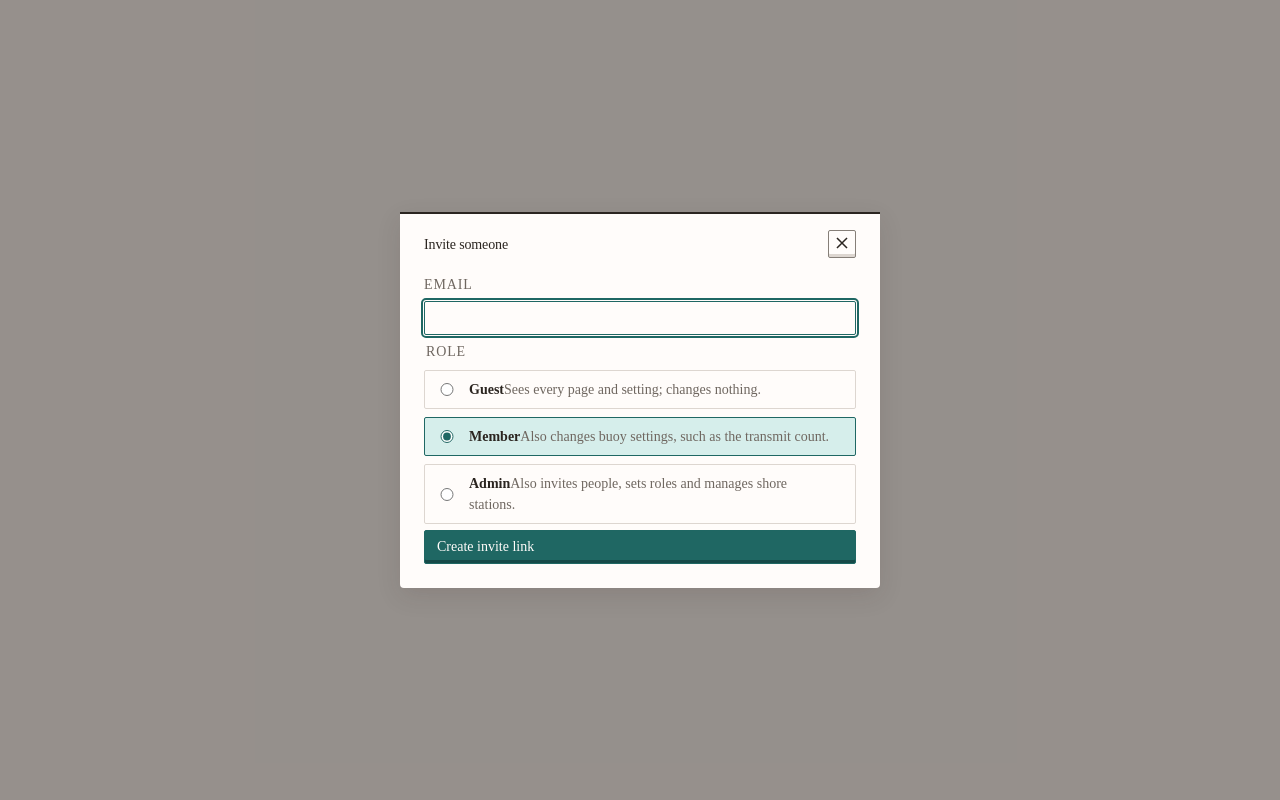
Test: InviteDialog › creates the invite with the chosen role and shows the link once
The image size is (1280, 800).
Type "new@scout.test" into the field labelled "Email" at (640, 318), box [424, 301, 856, 335]
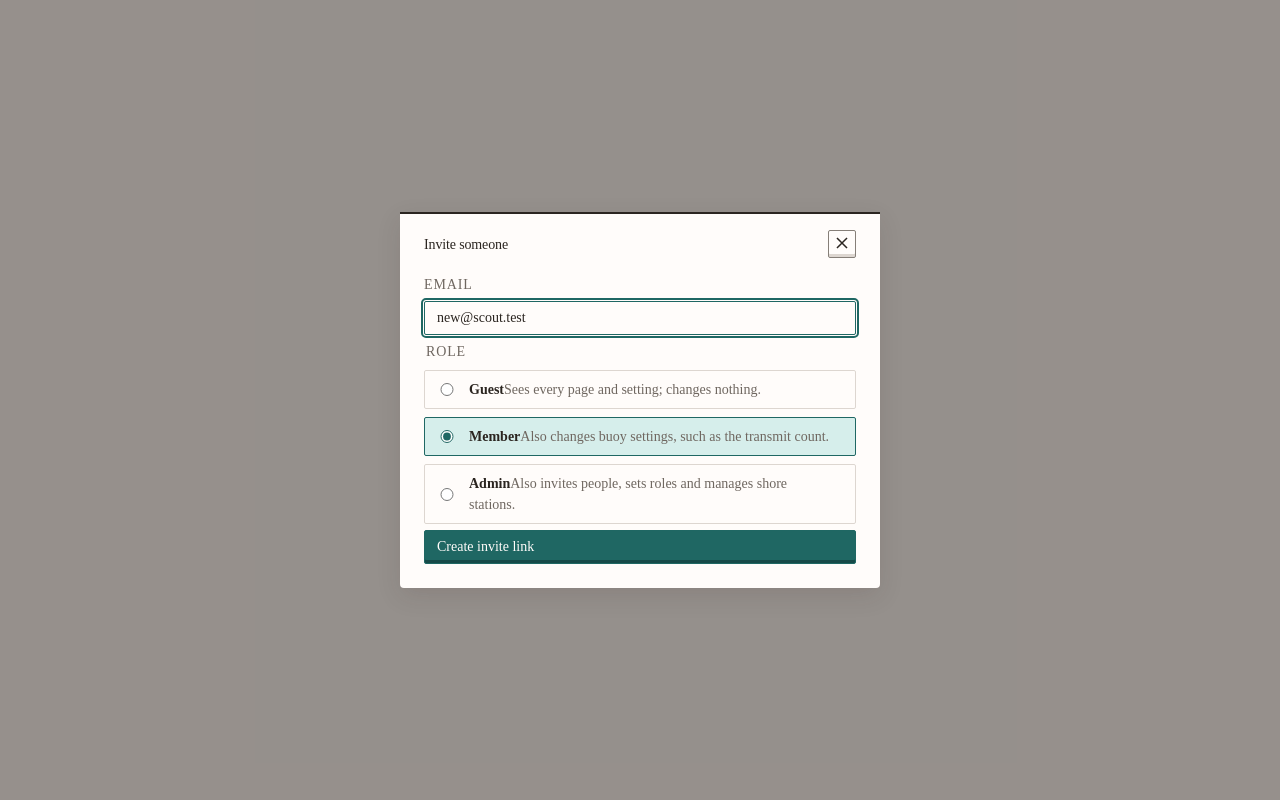
Click the radio button labelled "Guest" at (447, 390), box [437, 383, 457, 396]
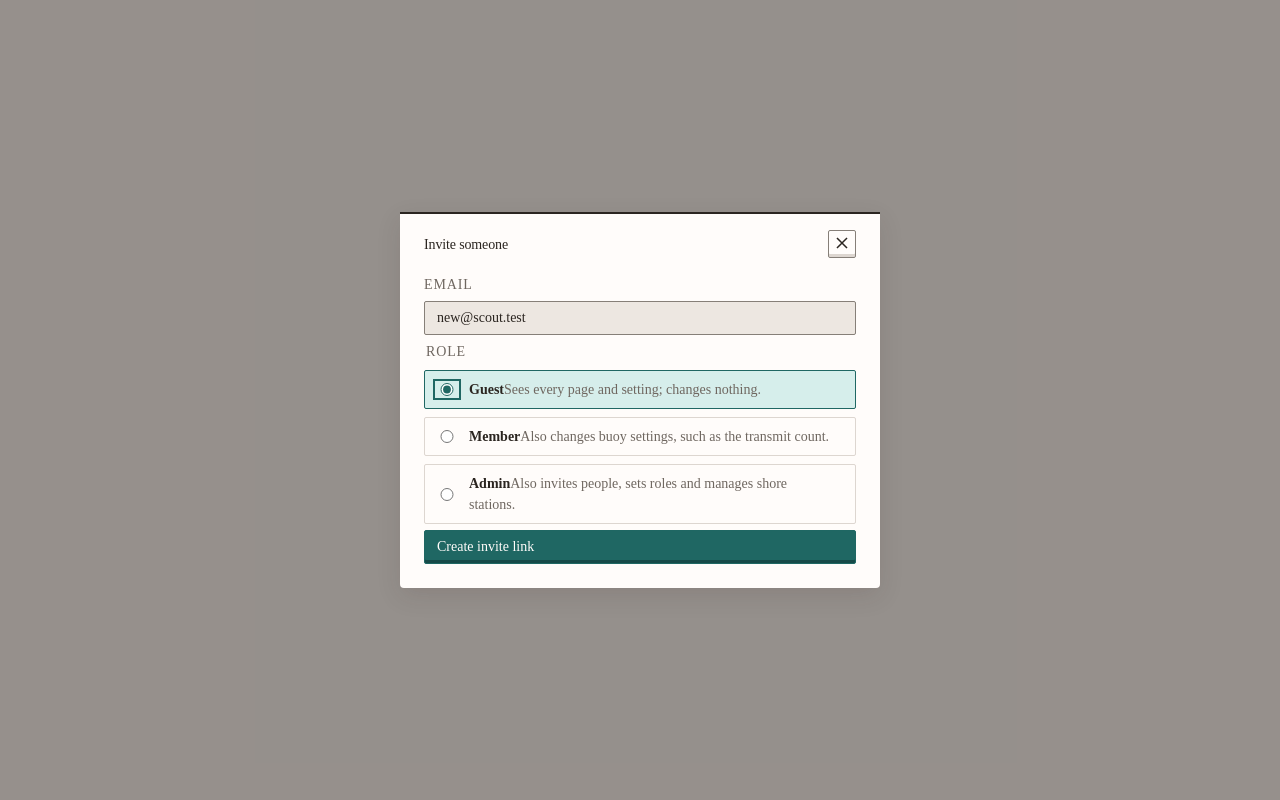
Click the button "Create invite link" at (486, 546), box [424, 530, 856, 564]
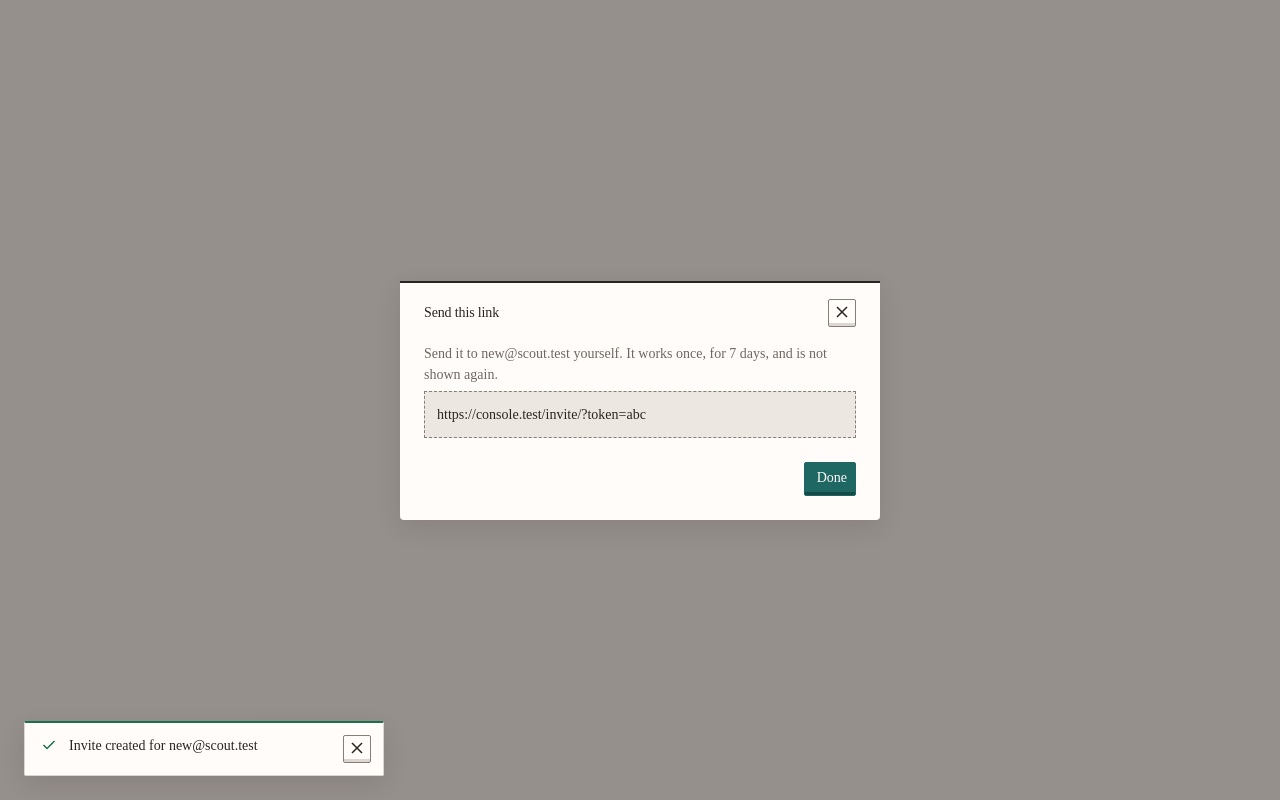
Expected: the text "https://console.test/invite/?token=abc" is shown, [424, 390, 856, 438]
